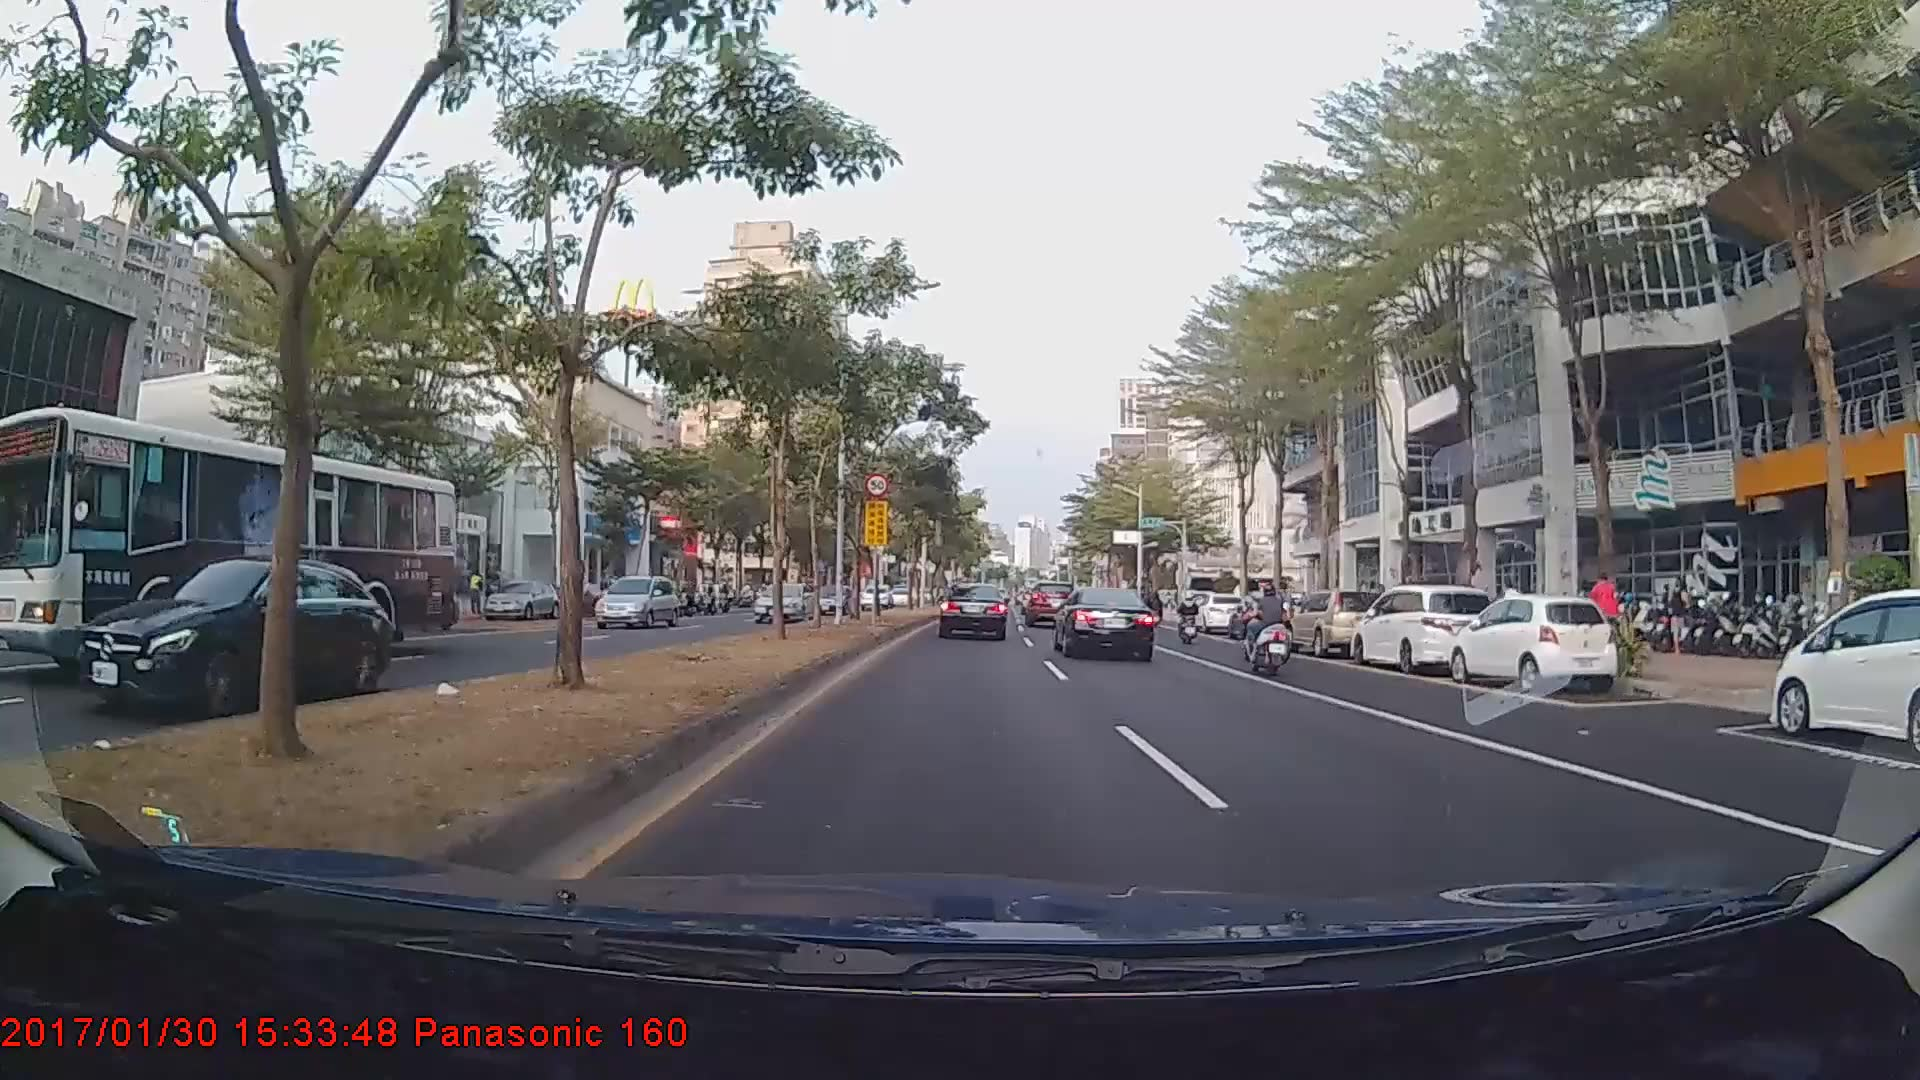rider: (1237, 582, 1305, 676), (1578, 566, 1631, 663), (1172, 589, 1203, 645)
vehicle: (0, 406, 459, 678), (73, 555, 394, 720), (1768, 583, 1919, 762), (1444, 592, 1617, 696), (1354, 583, 1497, 677), (1054, 585, 1156, 662), (1284, 587, 1388, 658), (593, 575, 677, 628), (938, 581, 1009, 641), (482, 577, 559, 619), (753, 582, 812, 622), (1192, 593, 1247, 636), (1024, 584, 1074, 629), (811, 583, 853, 614), (859, 584, 893, 611)
